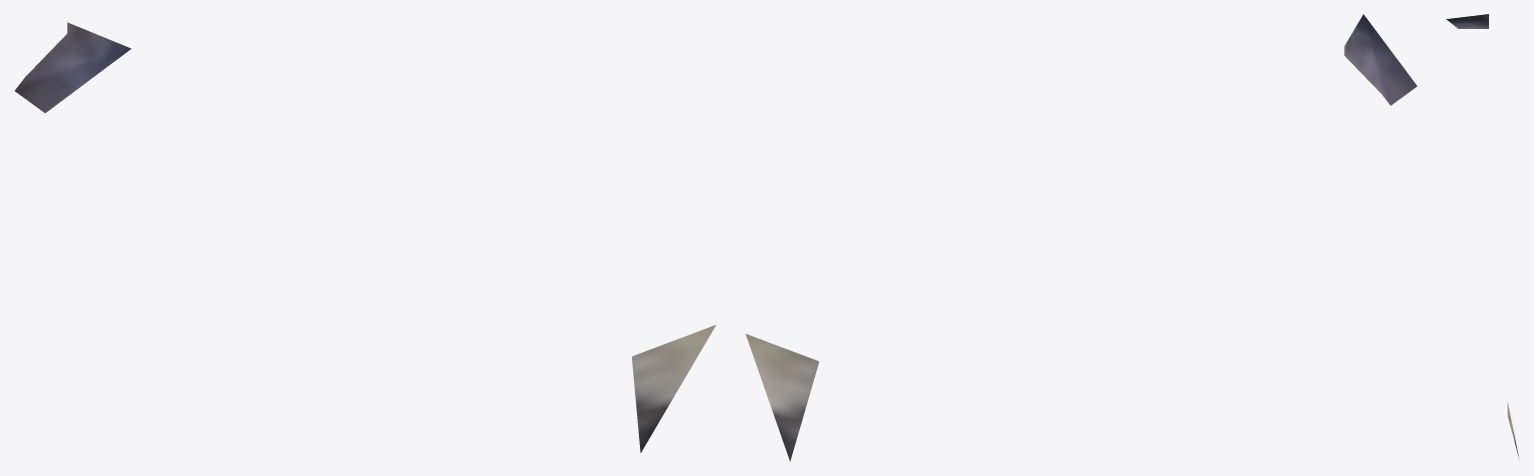
3 renders of one model, left to right at view 1: azimuth 30°, elevation 25°; view 2: azimuth 150°, elevation 25°; view 3: azimuth 270°, elevation 25°, orthographic. The views are drawn at different scales.
Parts seen in each view (by area): view 1: 30436272704361527705_1; view 2: 30436272704361527705_1; view 3: 30436272704361527705_1.
Part boxes in pixels (x1,y1,x2,y2): 30436272704361527705_1: (15, 22, 715, 452); 30436272704361527705_1: (745, 14, 1417, 461); 30436272704361527705_1: (1446, 14, 1519, 458).
Size of the model in its own units: 10.43 by 8.32 by 1.85.
Materials: 1 (1 with a texture image).
